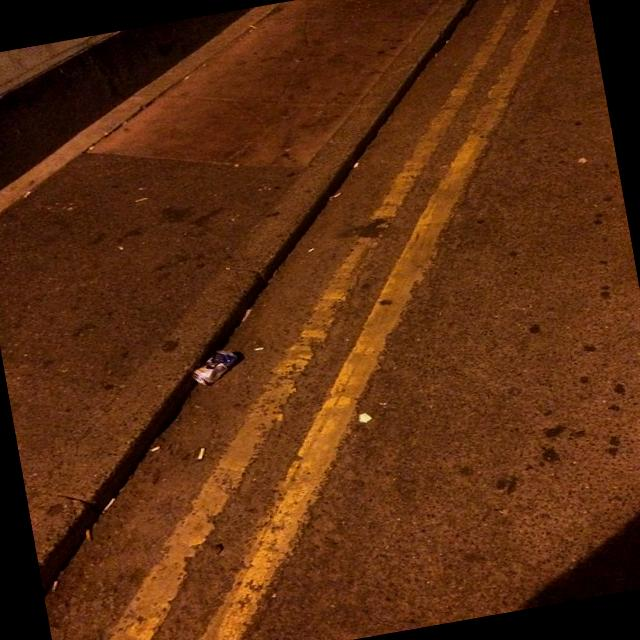Recycle: (186, 346, 248, 390)
